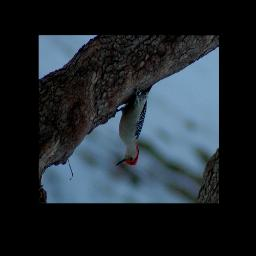Woodpecker: (114, 84, 153, 167)
